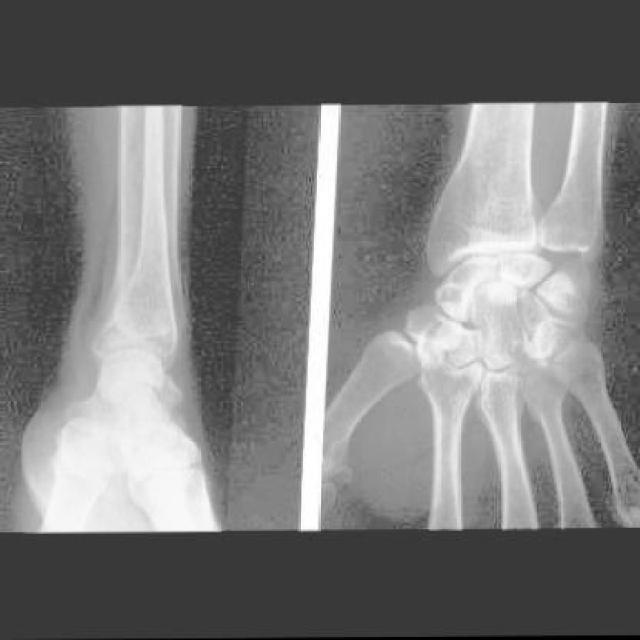Fracture: (531, 322, 591, 378), (143, 426, 200, 473)
